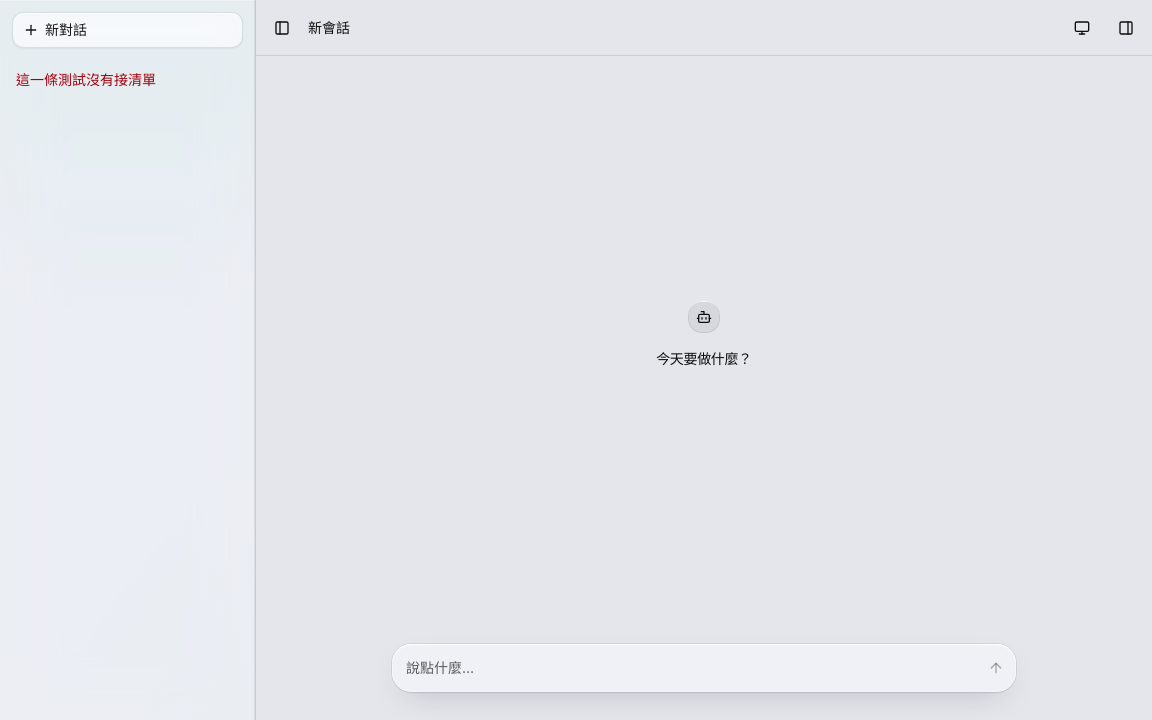
@子代理 提及（#328） › 名字不在清單上（invalid_argument）：用 server 的訊息，草稿與標記留著
The width and height of the screenshot is (1152, 720).
In the text box named "要說的話": (691, 668) [406, 652, 976, 684], type "@"
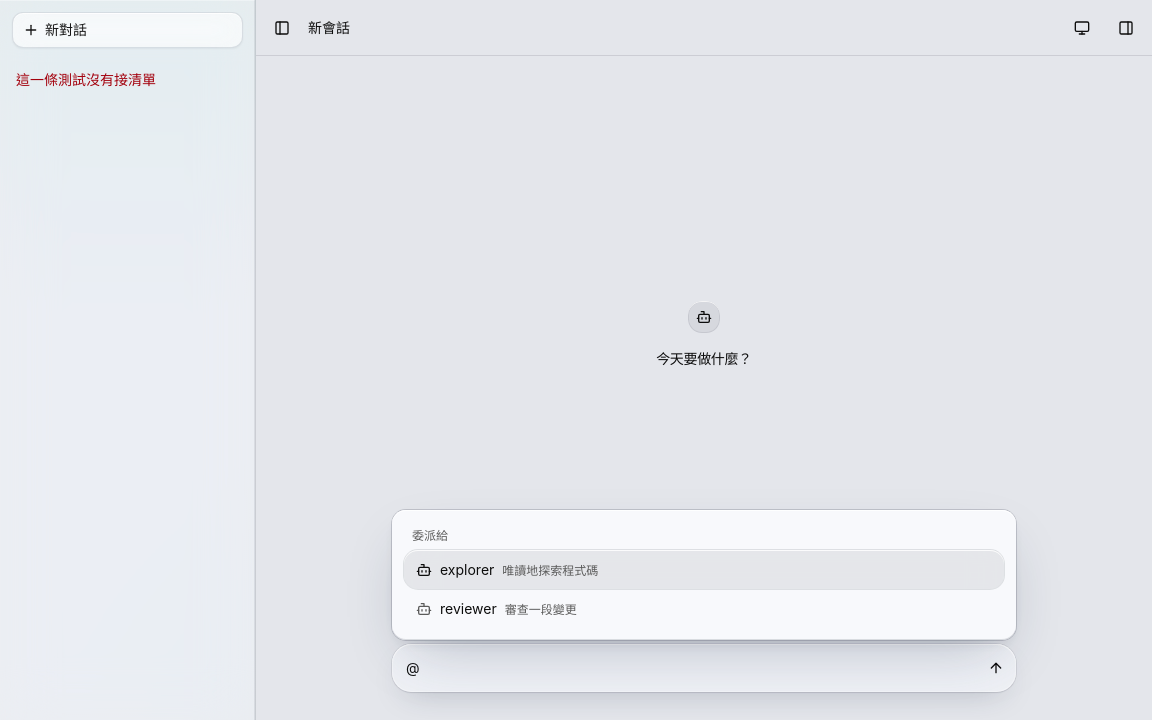
Check: the dialog named "@ 選單" is shown, box [392, 510, 1016, 640]
Press Enter in the text box named "要說的話", box [406, 652, 976, 684]
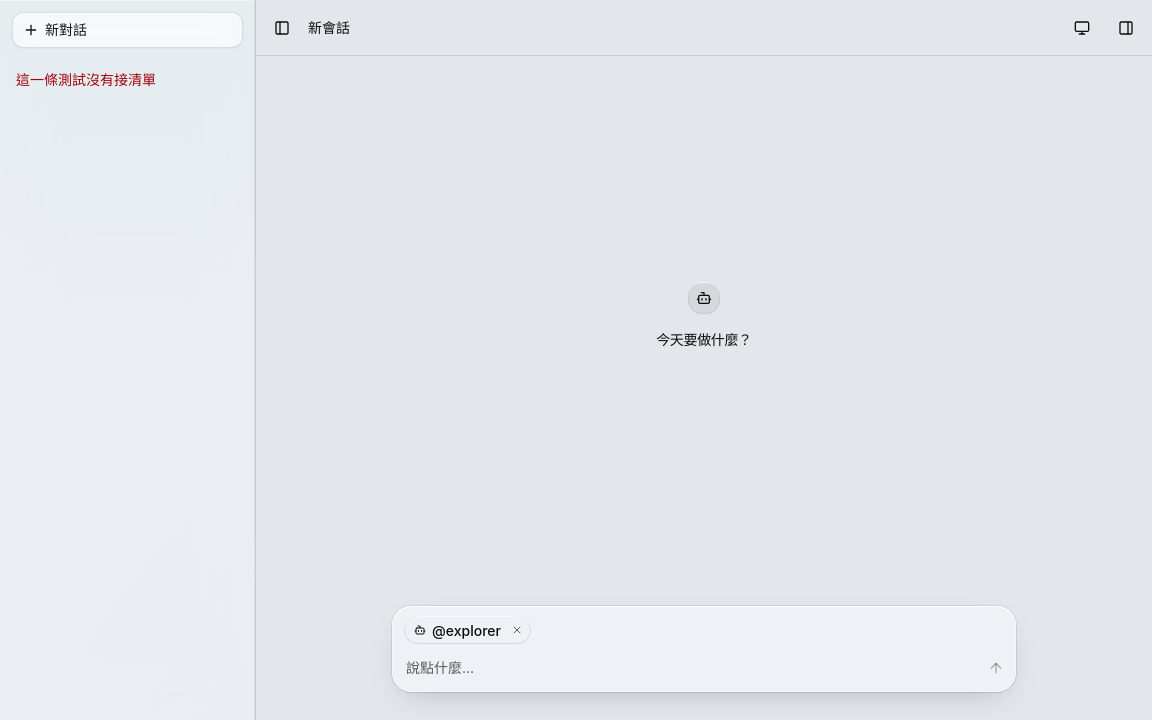
In the text box named "要說的話": (691, 668) [406, 652, 976, 684], type "丙"
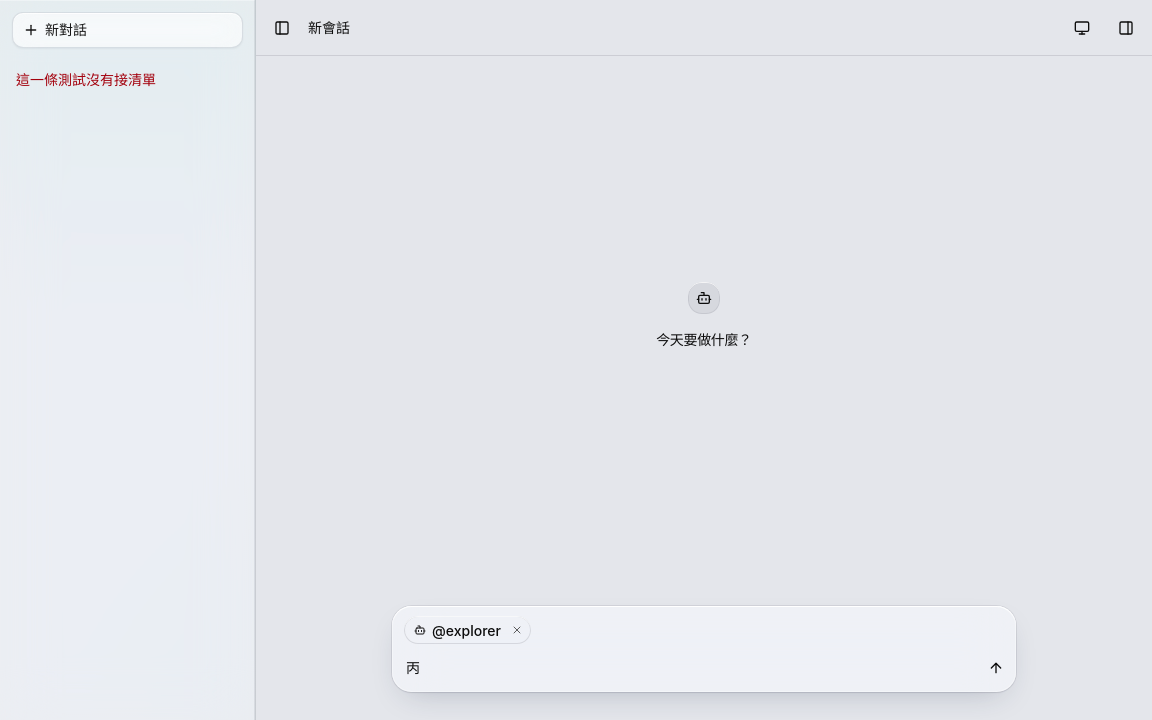
Click the button named "送出": (996, 668) [980, 652, 1012, 684]
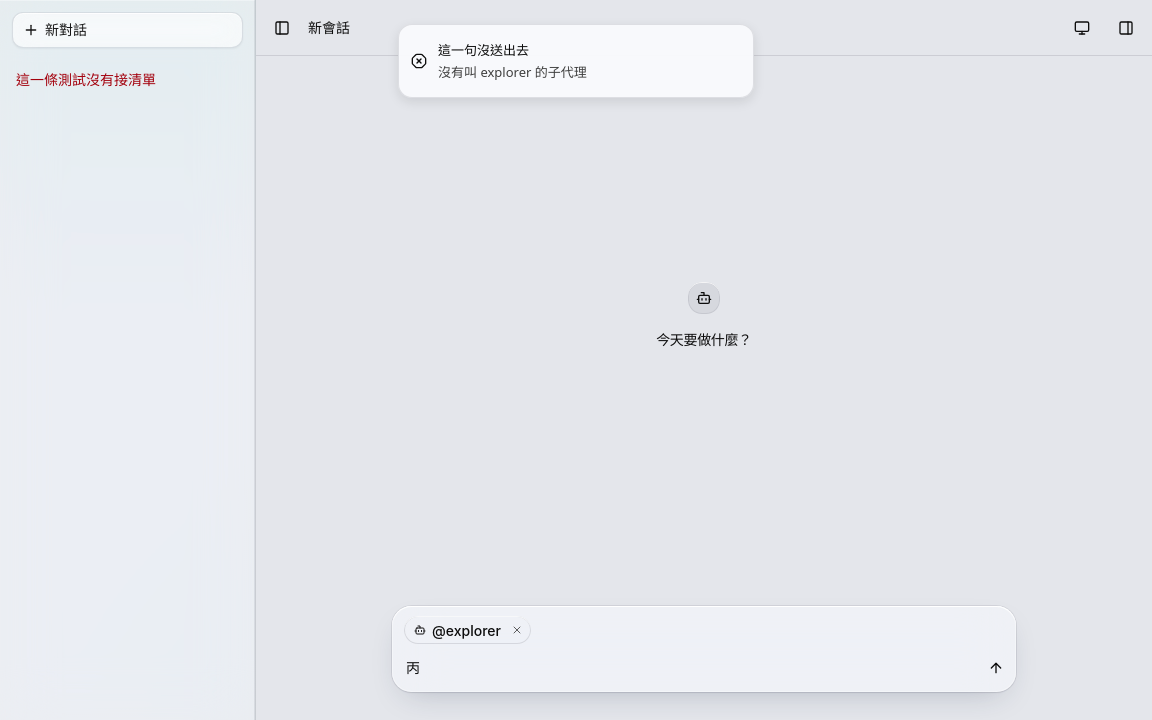
Check: the element with test id "agent-mention-chip" reads "@explorer", box [404, 616, 531, 644]
Check: the text "沒有叫 explorer 的子代理" is shown, box [438, 62, 587, 81]
